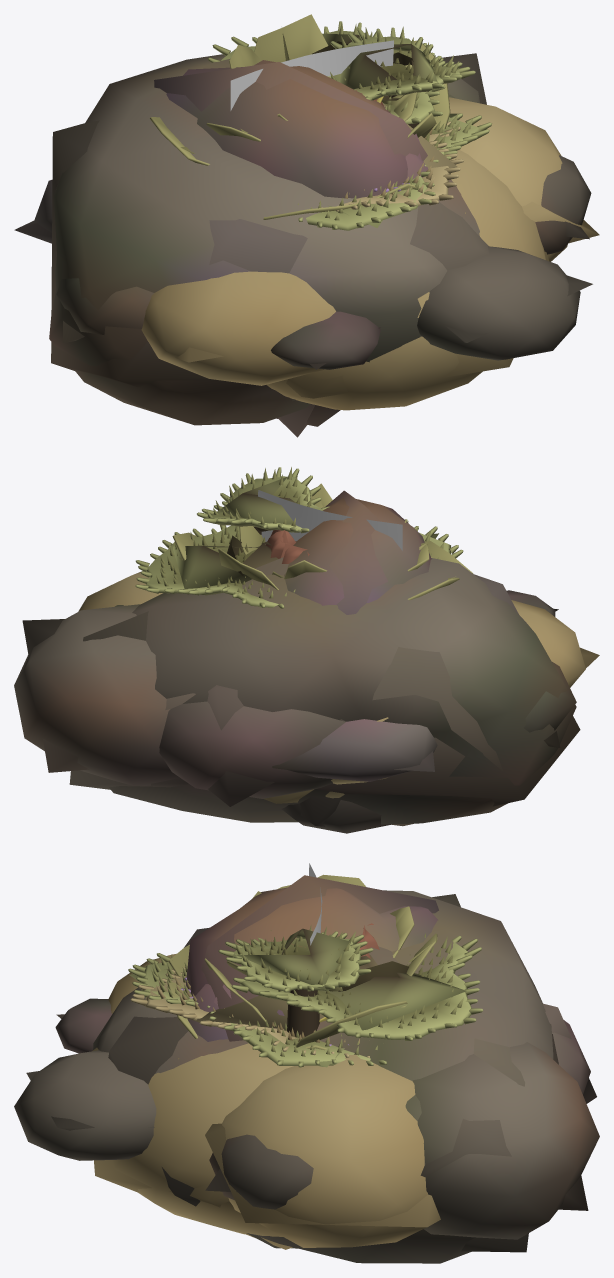
The model's file is reef.glb.
The picture shows the model from 3 angles, top to bottom: view 1: azimuth 30°, elevation 25°; view 2: azimuth 150°, elevation 25°; view 3: azimuth 270°, elevation 25°; orthographic projection. The views are drawn at different scales.
Parts seen in each view (by area): view 1: reef_rock, coral_mound_big, reef_rock_tall, reef_rock_lod, coral_table_tiered, coral_plate_big, reef_rock_tall_lod, reef_rock_b, coral_mound_big_lod, coral_table_tiered_lod, card_fan, coral_table (+1 smaller); view 2: reef_rock, reef_rock_lod, reef_rock_tall, coral_table_tiered, reef_rock_b, reef_rock_tall_lod, coral_mound_big, coral_table_tiered_lod, coral_plate_big, card_fan, coral_barrel, coral_mound_big_lod (+1 smaller); view 3: reef_rock, coral_mound_big, coral_table_tiered, reef_rock_lod, reef_rock_tall, coral_table_tiered_lod, reef_rock_tall_lod, coral_mound_big_lod, coral_plate_big, coral_table, reef_rock_b, coral_table_lod.
Boxes of the visible parts, bbox=[...] form: reef_rock: bbox=[49, 54, 591, 425]; coral_mound_big: bbox=[141, 97, 567, 410]; reef_rock_tall: bbox=[166, 60, 428, 426]; reef_rock_lod: bbox=[51, 53, 592, 401]; coral_table_tiered: bbox=[207, 21, 492, 230]; coral_plate_big: bbox=[149, 14, 450, 219]; reef_rock_tall_lod: bbox=[154, 62, 427, 437]; reef_rock_b: bbox=[33, 180, 380, 369]; coral_mound_big_lod: bbox=[175, 201, 599, 398]; coral_table_tiered_lod: bbox=[322, 21, 457, 227]; card_fan: bbox=[230, 40, 393, 110]; coral_table: bbox=[321, 121, 464, 211]; reef_rock: bbox=[14, 558, 576, 824]; reef_rock_lod: bbox=[22, 557, 580, 826]; reef_rock_tall: bbox=[281, 497, 431, 833]; coral_table_tiered: bbox=[135, 467, 463, 608]; reef_rock_b: bbox=[272, 590, 555, 781]; reef_rock_tall_lod: bbox=[300, 490, 387, 826]; coral_mound_big: bbox=[78, 571, 585, 798]; coral_table_tiered_lod: bbox=[160, 467, 438, 588]; coral_plate_big: bbox=[172, 483, 473, 600]; card_fan: bbox=[258, 490, 402, 550]; coral_barrel: bbox=[266, 530, 309, 563]; coral_mound_big_lod: bbox=[263, 647, 599, 803]; reef_rock: bbox=[14, 890, 599, 1263]; coral_mound_big: bbox=[108, 953, 427, 1247]; coral_table_tiered: bbox=[128, 925, 483, 1067]; reef_rock_lod: bbox=[26, 894, 596, 1252]; reef_rock_tall: bbox=[186, 887, 438, 1041]; coral_table_tiered_lod: bbox=[129, 928, 466, 1067]; reef_rock_tall_lod: bbox=[201, 875, 438, 1041]; coral_mound_big_lod: bbox=[92, 1047, 440, 1249]; coral_plate_big: bbox=[167, 874, 437, 1050]; coral_table: bbox=[130, 967, 369, 1057]; reef_rock_b: bbox=[55, 998, 112, 1053]; coral_table_lod: bbox=[161, 955, 377, 1043].
Bounding box in the file's own units: 3.2 × 2.19 × 3.23.
